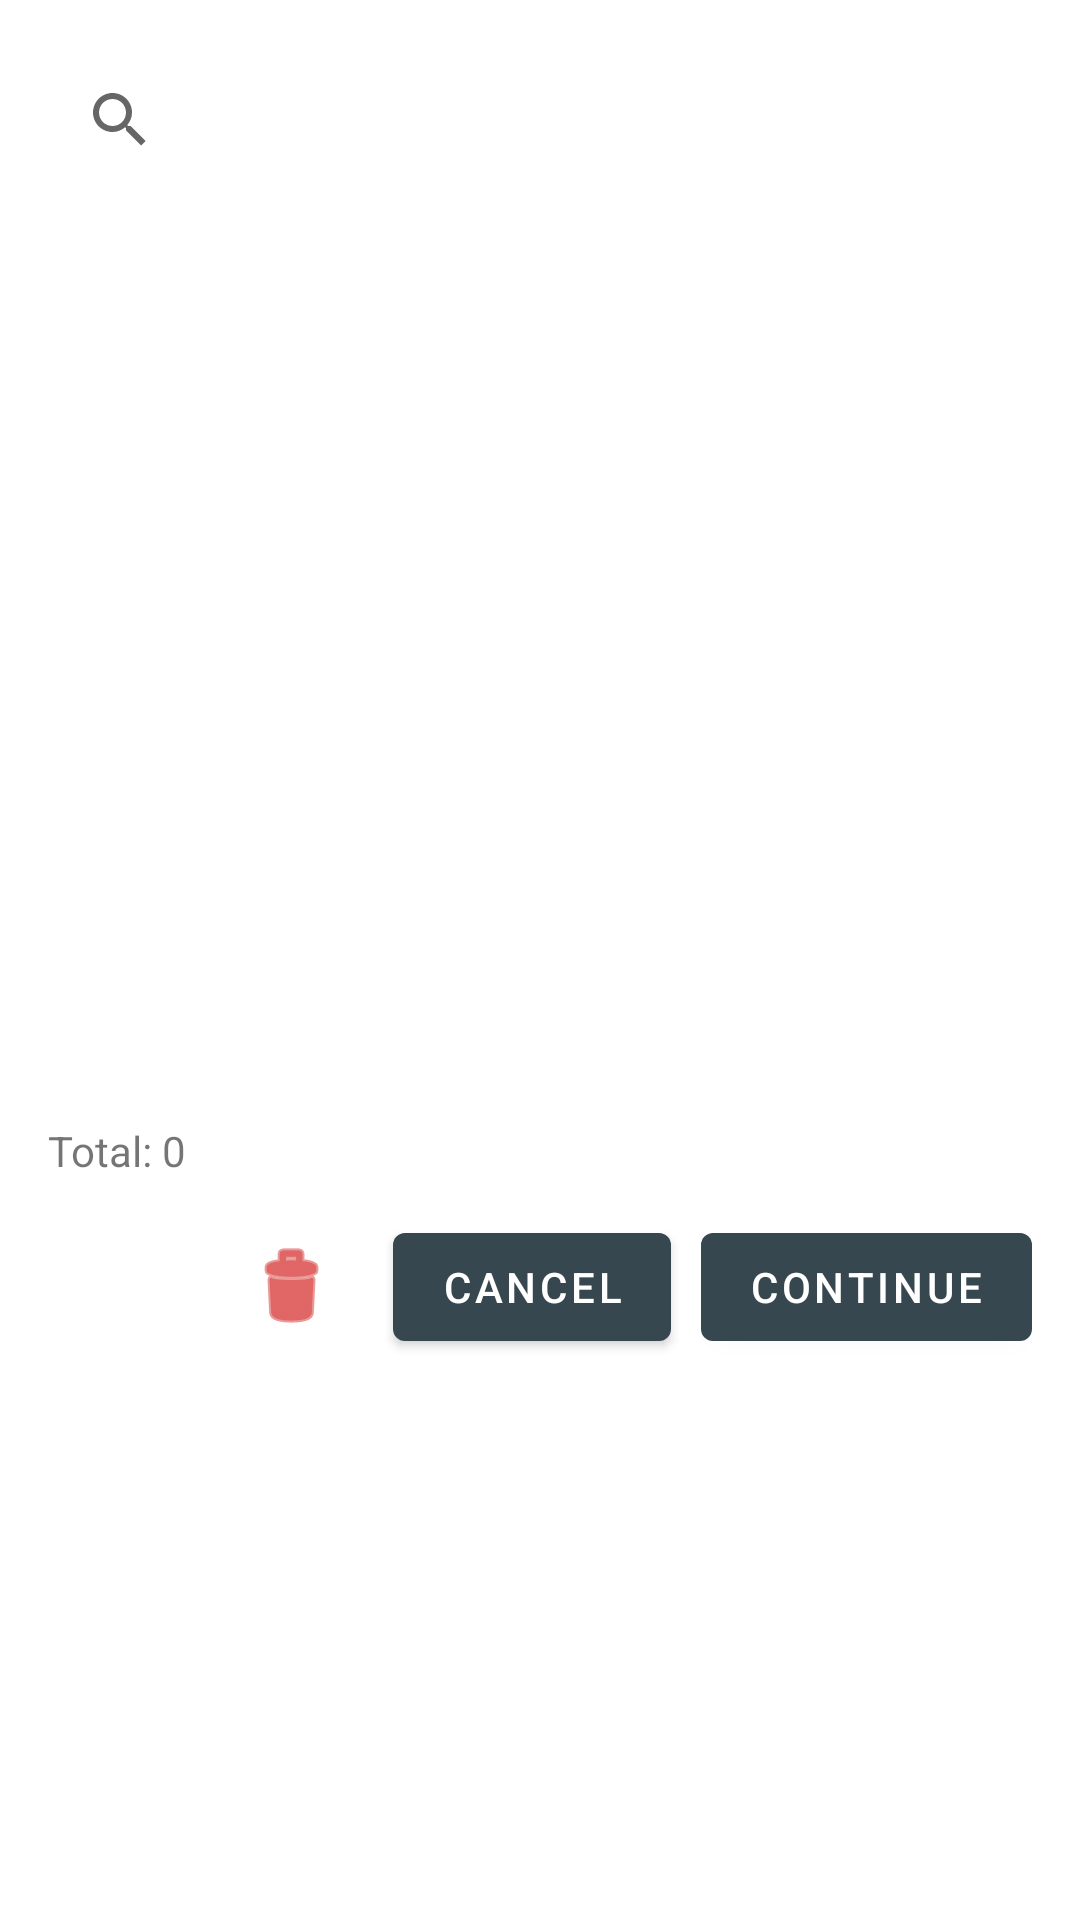

Locate icon controls on the screen. Image size 1080px×1920px, boxes as [x1,y1,x2,y2].
Delete all photos: [264,1248,319,1323]
